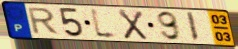5: (58, 7, 85, 39)
9: (155, 11, 183, 42)
I: (185, 11, 201, 43)
L: (89, 7, 122, 41)
R: (27, 7, 62, 36)
X: (117, 8, 149, 41)
